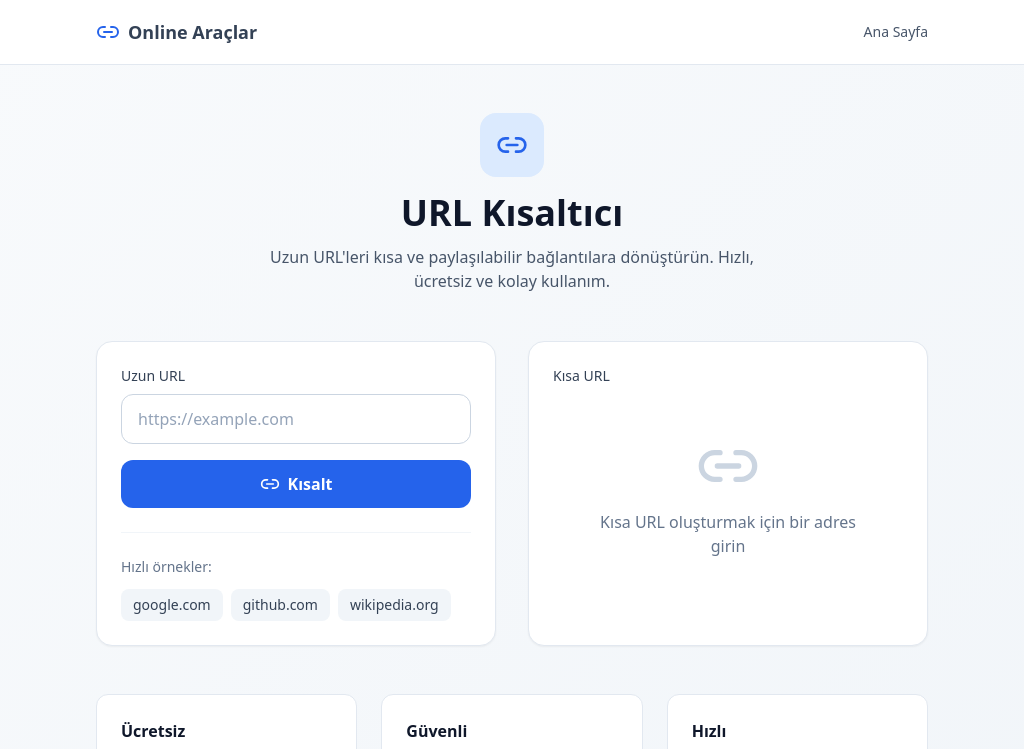
Test: UrlShortener › shows validation error for empty URL
The image size is (1024, 749).
Click the button "Kısalt" at (296, 484), box [121,460,471,508]
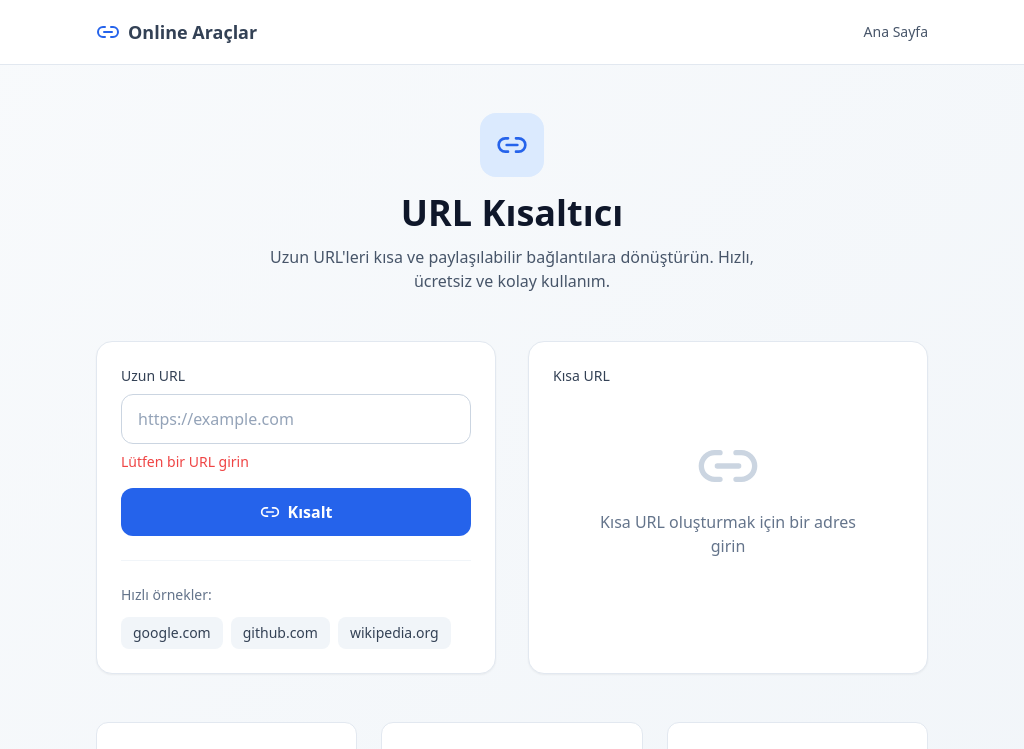
Expected: the text "Lütfen bir URL girin" is shown, [121,452,249,471]
